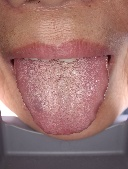tongue: (13, 64, 110, 137)
